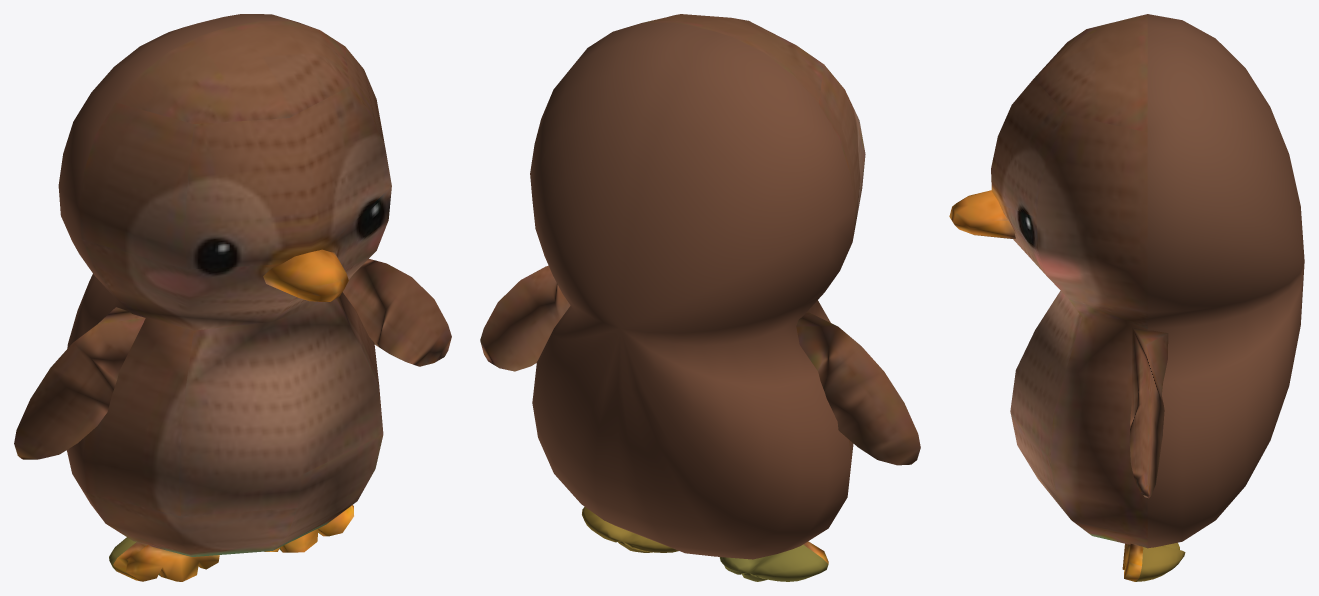
File: penguin-04-44-cocoa-brown-crochet-penguin.gltf
3 views of the same model, side by side, from view 1: azimuth 30°, elevation 25°; view 2: azimuth 150°, elevation 25°; view 3: azimuth 270°, elevation 25° (orthographic). The views are drawn at different scales.
Visible parts, largest first — view 1: penguin-04-44-cocoa-brown-crochet-penguin; view 2: penguin-04-44-cocoa-brown-crochet-penguin; view 3: penguin-04-44-cocoa-brown-crochet-penguin.
Part boxes in pixels (x1=…): penguin-04-44-cocoa-brown-crochet-penguin: x1=14, y1=14, x2=451, y2=581; penguin-04-44-cocoa-brown-crochet-penguin: x1=480, y1=14, x2=920, y2=581; penguin-04-44-cocoa-brown-crochet-penguin: x1=949, y1=14, x2=1304, y2=581.
Size of the model in its own units: 0.2 by 0.2332 by 0.1469.
1 material, 1 textured.
